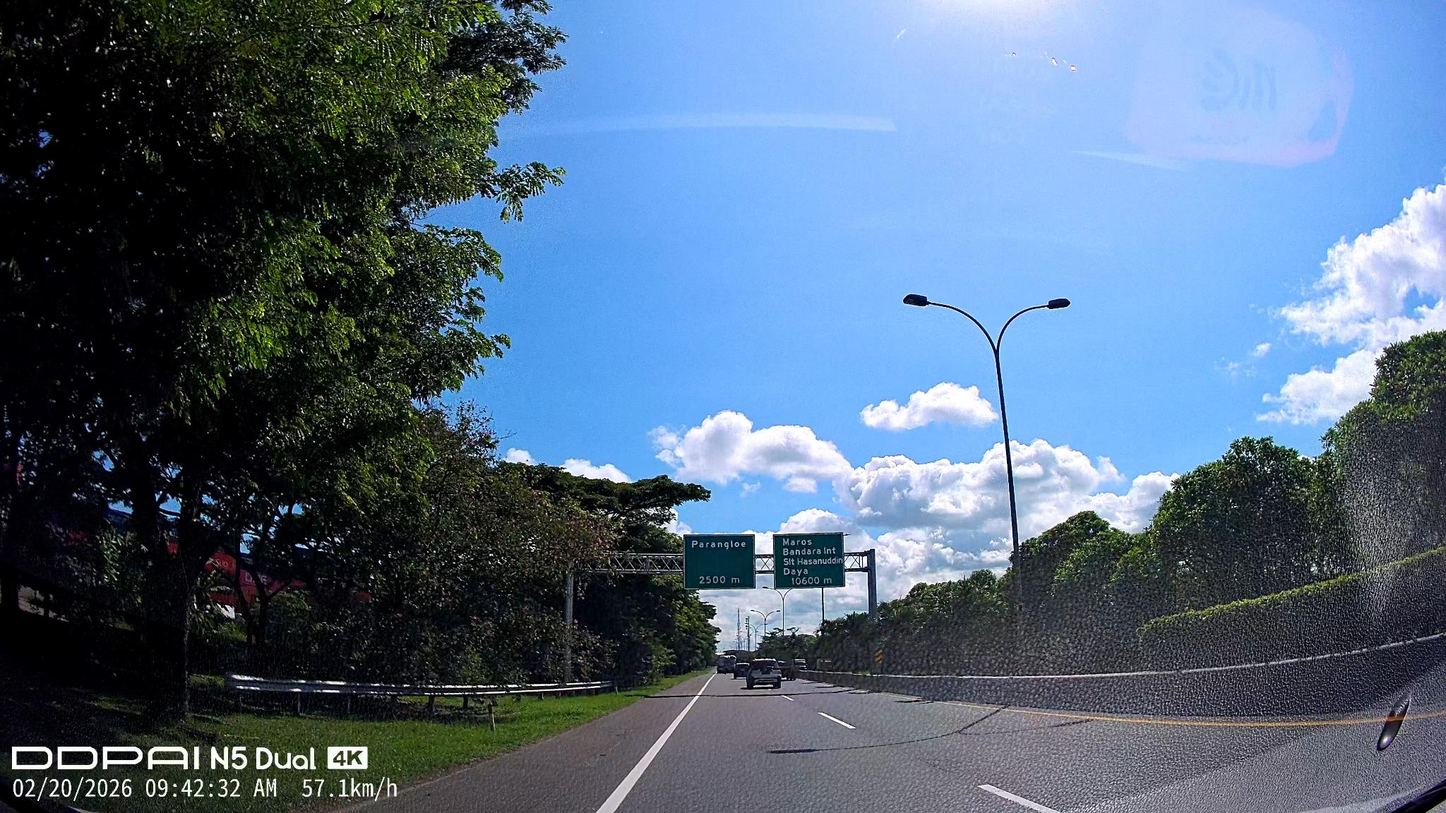rambu_teks: (772, 532, 846, 590), (682, 534, 756, 591)
